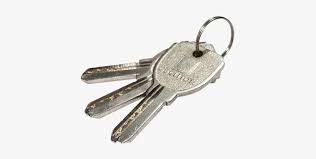key: (80, 8, 240, 144)
